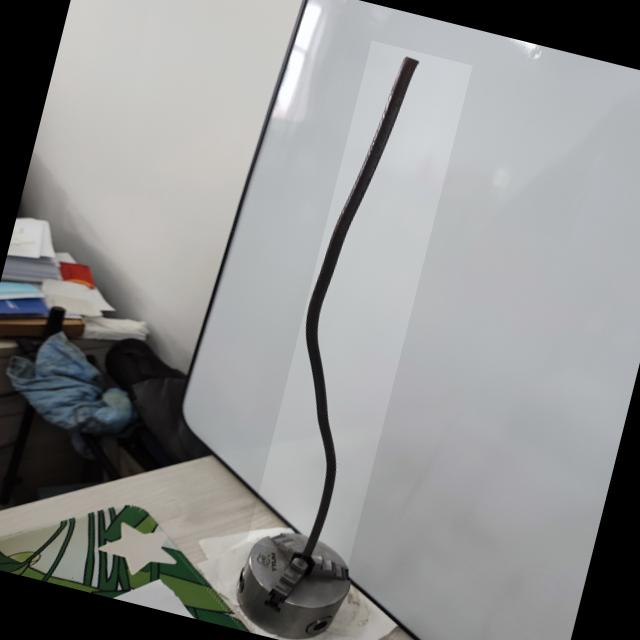plain round bar: (247, 40, 472, 566)
